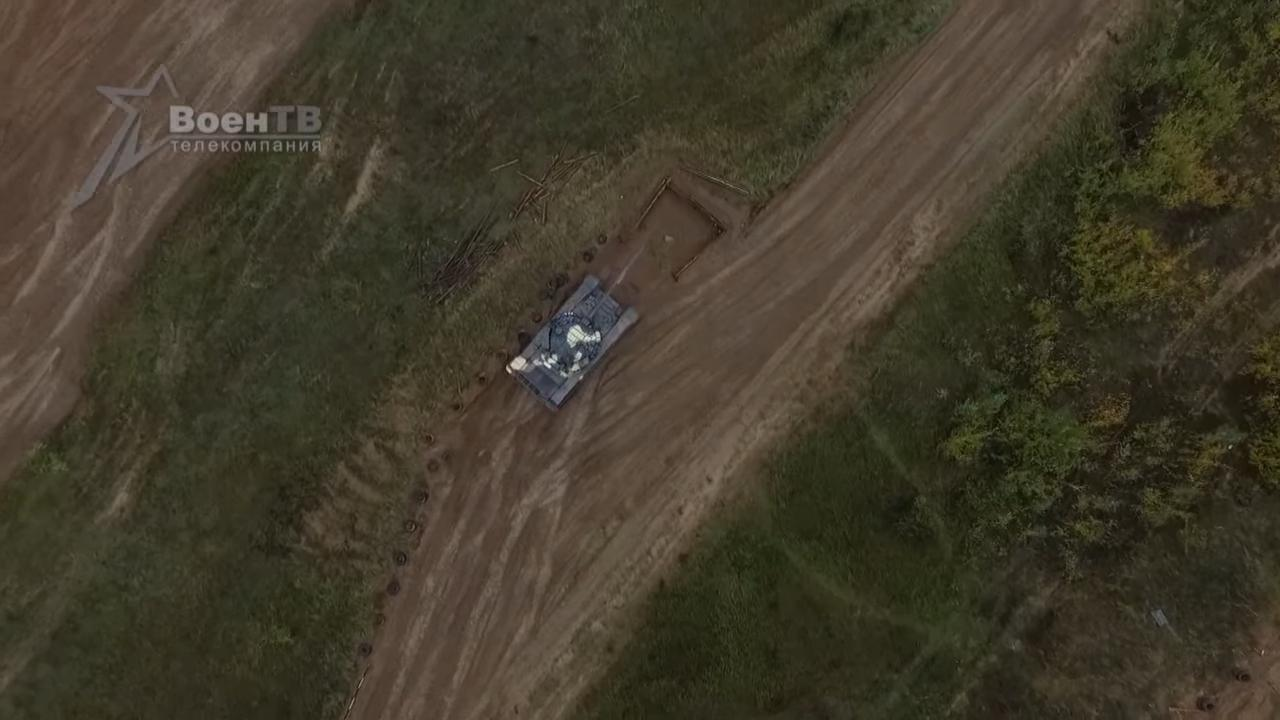tank: (506, 275, 638, 413)
